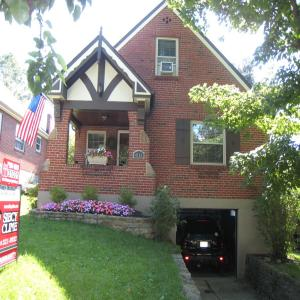Vehicle-registration-plate: (201, 242, 209, 249)
